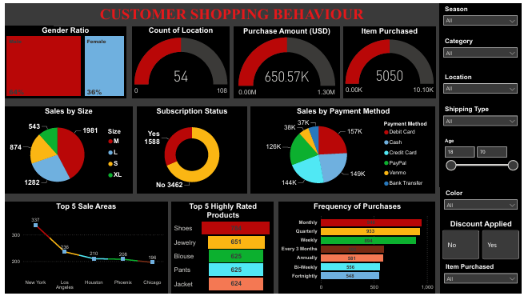

Layout of this report page (visuals, bound fields, positions):
{"tool":"powerbi","page":{"name":"Page 1","canvas":[1280,720],"ordinal":0},"visuals":[{"type":"gauge","title":"Purchase Amount (USD)","fields":{"Y":["Sum(customer_shopping_behavior.Purchase Amount (USD))"]},"box":[567.1,58.6,262.9,178.6],"z":0},{"type":"gauge","title":"Item Purchased","fields":{"Y":["CountNonNull(customer_shopping_behavior.Item Purchased)"]},"box":[838.6,58.6,228.6,178.6],"z":1000},{"type":"gauge","fields":{"Y":["Count(customer_shopping_behavior.Location)"]},"box":[315.7,57.1,240,178.6],"z":2000},{"type":"treemap","title":"Gender Ratio","fields":{"Values":["CountNonNull(customer_shopping_behavior.Customer ID)"],"Group":["customer_shopping_behavior.Gender"]},"box":[0,57.1,300,178.6],"z":3000},{"type":"textbox","box":[121.4,0,881.4,57.1],"z":4000},{"type":"pieChart","title":"Sales by Size","fields":{"Category":["customer_shopping_behavior.Size"],"Y":["CountNonNull(customer_shopping_behavior.Item Purchased)"]},"box":[0,257.1,315.7,215.7],"z":5000},{"type":"donutChart","title":"Subscription Status","fields":{"Category":["customer_shopping_behavior.Subscription Status"],"Y":["CountNonNull(customer_shopping_behavior.Customer ID)"]},"box":[327.1,257.1,272.9,215.7],"z":6000},{"type":"stackedAreaChart","title":"Top 5 Sale Areas","fields":{"Category":["customer_shopping_behavior.Location"],"Y":["CountNonNull(customer_shopping_behavior.Customer ID)"]},"box":[0,492.9,402.9,227.1],"z":7000},{"type":"pieChart","title":"Sales by Payment Method","fields":{"Category":["customer_shopping_behavior.Payment Method"],"Y":["Sum(customer_shopping_behavior.Purchase Amount (USD))"]},"box":[610,257.1,457.1,215.7],"z":8000},{"type":"funnel","title":"Top 5 Highly Rated Products","fields":{"Category":["customer_shopping_behavior.Item Purchased"],"Y":["Sum(customer_shopping_behavior.Review Rating)"]},"box":[414.3,492.9,252.9,227.1],"z":9000},{"type":"clusteredBarChart","title":"Frequency of Purchases","fields":{"Category":["customer_shopping_behavior.Frequency of Purchases"],"Y":["CountNonNull(customer_shopping_behavior.Customer ID)"]},"box":[678.6,492.9,388.6,227.1],"z":10000},{"type":"slicer","fields":{"Values":["customer_shopping_behavior.Season"]},"box":[1077.1,0,202.9,80],"z":11000},{"type":"slicer","fields":{"Values":["customer_shopping_behavior.Category"]},"box":[1077.1,80,202.9,88.6],"z":12000},{"type":"slicer","fields":{"Values":["customer_shopping_behavior.Location"]},"box":[1077.1,168.6,202.9,80],"z":13000},{"type":"slicer","fields":{"Values":["customer_shopping_behavior.Shipping Type"]},"box":[1077.1,248.6,202.9,81.4],"z":14000},{"type":"slicer","fields":{"Values":["customer_shopping_behavior.Age"]},"box":[1077.1,330,202.9,127.1],"z":15000},{"type":"slicer","fields":{"Values":["customer_shopping_behavior.Color"]},"box":[1078.6,457.1,201.4,80],"z":16000},{"type":"advancedSlicerVisual","fields":{"Values":["customer_shopping_behavior.Discount Applied"]},"box":[1078.6,537.1,201.4,102.9],"z":17000},{"type":"slicer","fields":{"Values":["customer_shopping_behavior.Item Purchased"]},"box":[1078.6,640,201.4,80],"z":18000}]}

Visuals, with their boxes in screenshot pixels (x1, y1, x2, y2), scaled from the page's 1280x720 canvas onto the 523x296 screenshot:
"Purchase Amount (USD)" gauge: [232, 24, 339, 98]
"Item Purchased" gauge: [343, 24, 436, 98]
gauge - Count(customer_shopping_behavior.Location): [129, 23, 227, 97]
"Gender Ratio" treemap: [0, 23, 123, 97]
textbox: [50, 0, 410, 23]
"Sales by Size" pieChart: [0, 106, 129, 194]
"Subscription Status" donutChart: [134, 106, 245, 194]
"Top 5 Sale Areas" stackedAreaChart: [0, 203, 165, 295]
"Sales by Payment Method" pieChart: [249, 106, 436, 194]
"Top 5 Highly Rated Products" funnel: [169, 203, 273, 295]
"Frequency of Purchases" clusteredBarChart: [277, 203, 436, 295]
slicer - customer_shopping_behavior.Season: [440, 0, 522, 33]
slicer - customer_shopping_behavior.Category: [440, 33, 522, 69]
slicer - customer_shopping_behavior.Location: [440, 69, 522, 102]
slicer - customer_shopping_behavior.Shipping Type: [440, 102, 522, 136]
slicer - customer_shopping_behavior.Age: [440, 136, 522, 188]
slicer - customer_shopping_behavior.Color: [441, 188, 522, 221]
advancedSlicerVisual - customer_shopping_behavior.Discount Applied: [441, 221, 522, 263]
slicer - customer_shopping_behavior.Item Purchased: [441, 263, 522, 295]
